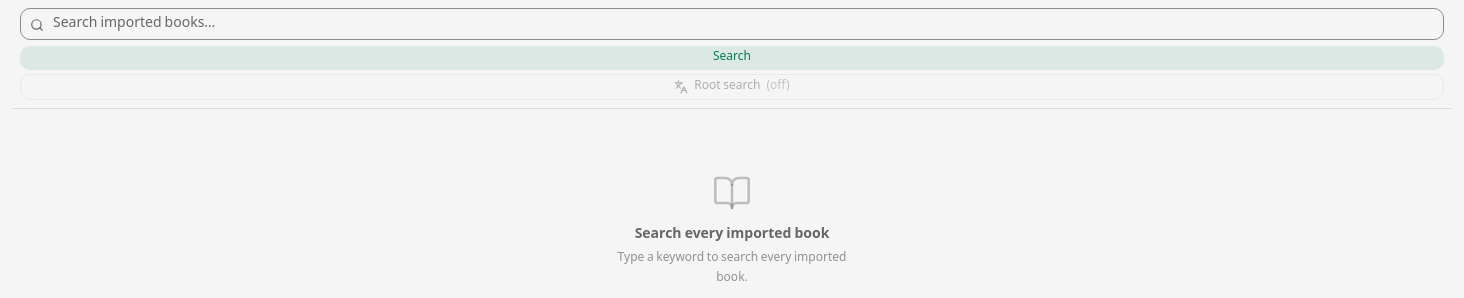
Test: SearchTab — on plain web (no window.electronAPI at all) › searches via the bridge and renders results, without desktop APIs
Type "نية" into the field with placeholder "Search imported books…" at (732, 24), box [20,8,1444,40]
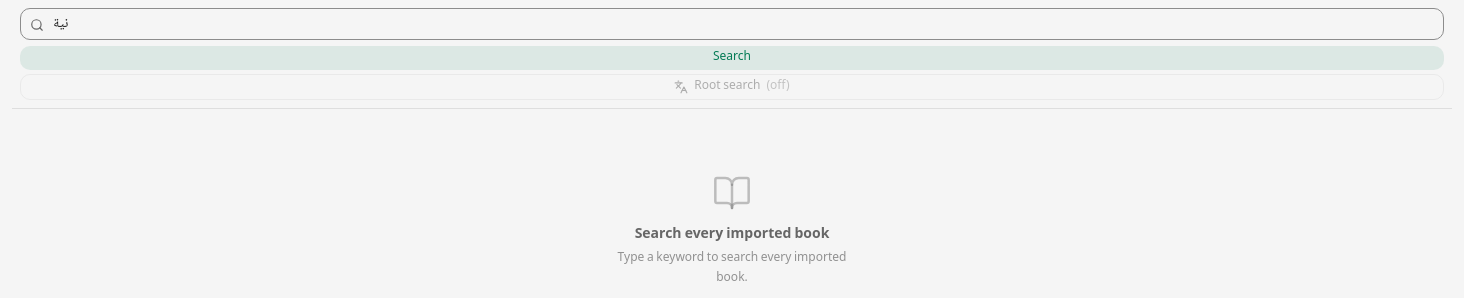
Click the button "Search" at (732, 58), box [20,46,1444,70]
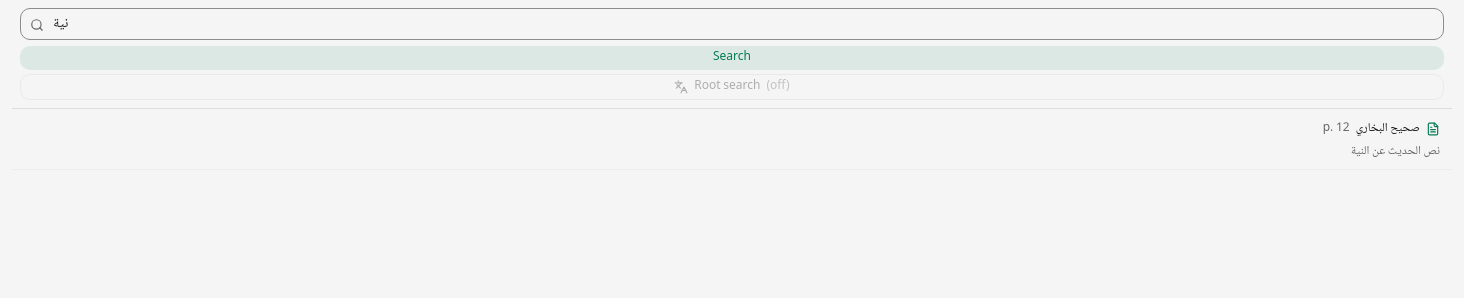
Check: the text "صحيح البخاري" is shown, box [1356,121,1420,138]
